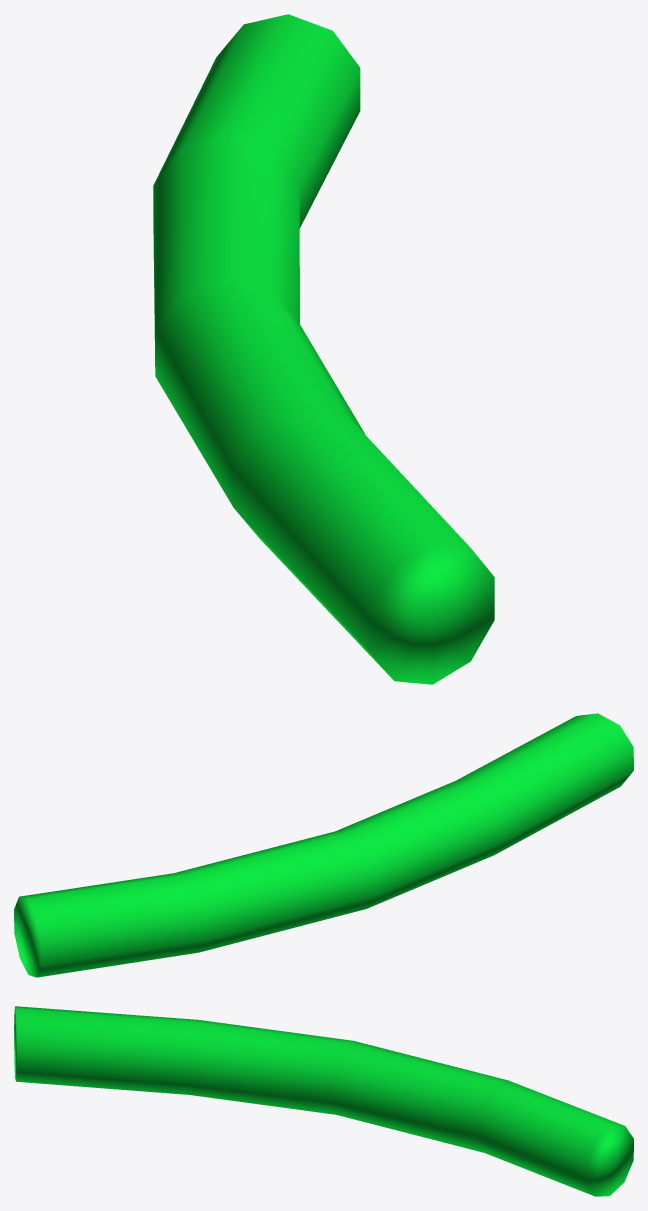
Rendered from Pipe_Turn_45_A_Int.fbx.
The picture shows the model from 3 angles, top to bottom: view 1: azimuth 30°, elevation 25°; view 2: azimuth 150°, elevation 25°; view 3: azimuth 270°, elevation 25°; orthographic projection. The views are drawn at different scales.
Parts seen in each view (by area): view 1: Pipe_Turn_45_A_Int; view 2: Pipe_Turn_45_A_Int; view 3: Pipe_Turn_45_A_Int.
Boxes of the visible parts, <box> form: Pipe_Turn_45_A_Int: <box>153,14,494,684</box>; Pipe_Turn_45_A_Int: <box>14,713,633,977</box>; Pipe_Turn_45_A_Int: <box>14,1006,633,1196</box>.
Bounding box in the file's own units: 0.9478 × 0.2483 × 1.81.
